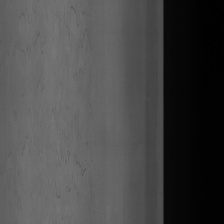silk_spot: (46, 18, 103, 164)
